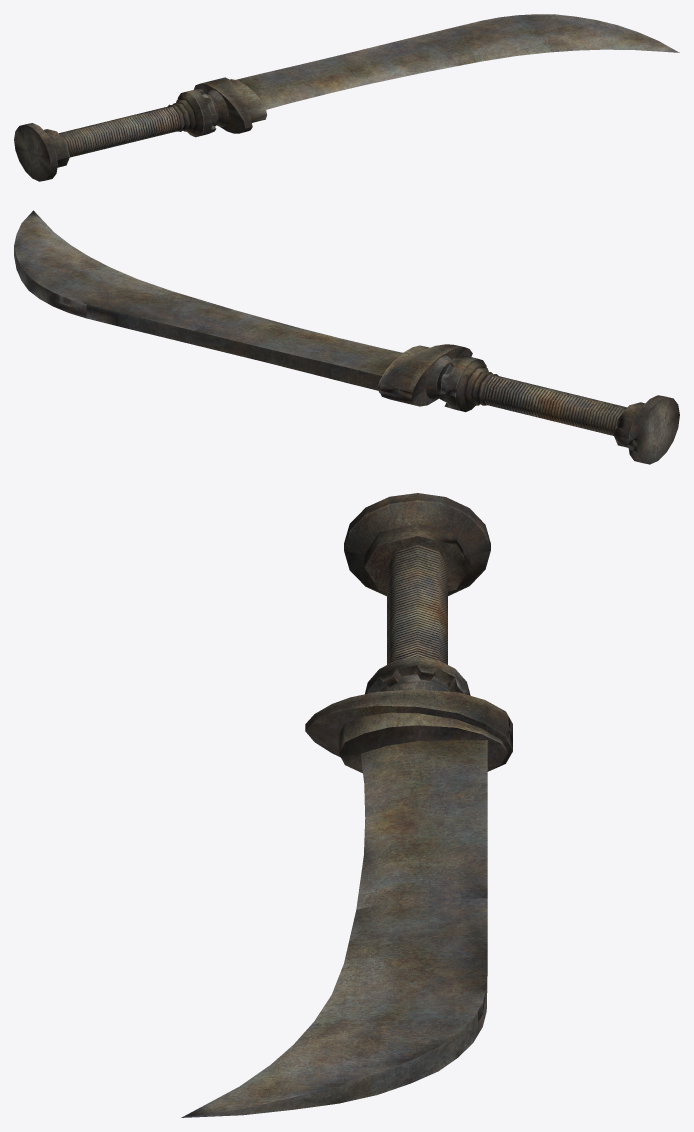
The model's file is zoddsword.glb.
The picture shows the model from 3 angles, top to bottom: view 1: azimuth 30°, elevation 25°; view 2: azimuth 150°, elevation 25°; view 3: azimuth 270°, elevation 25°; orthographic projection. The views are drawn at different scales.
Parts seen in each view (by area): view 1: model_002; view 2: model_002; view 3: model_002.
Boxes of the visible parts, x1=… form: model_002: x1=14, y1=14, x2=679, y2=181; model_002: x1=14, y1=210, x2=679, y2=464; model_002: x1=181, y1=493, x2=512, y2=1117.
Bounding box in the file's own units: 207 × 17.03 × 50.65.
2 materials, 1 textured.
